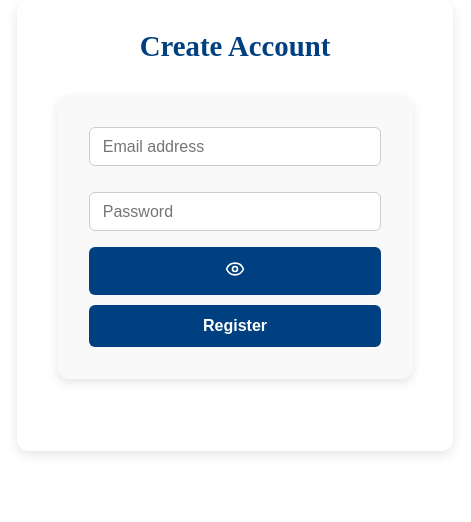
it: Register Component › validates email format
Step 1. Type "invalidemail" into the field with placeholder "Email address" → (235, 147), box [89,127,381,166]
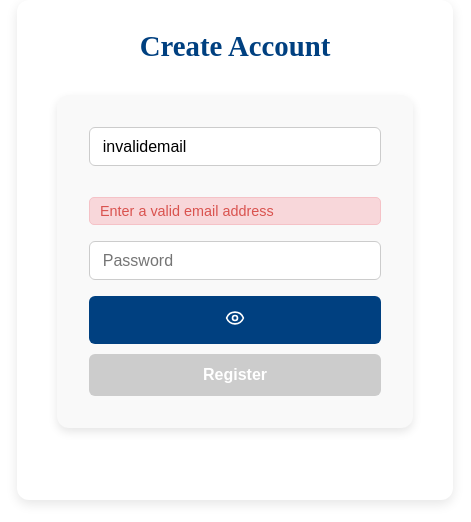
Check: the text "Enter a valid email address" is shown, box [89,197,381,225]
